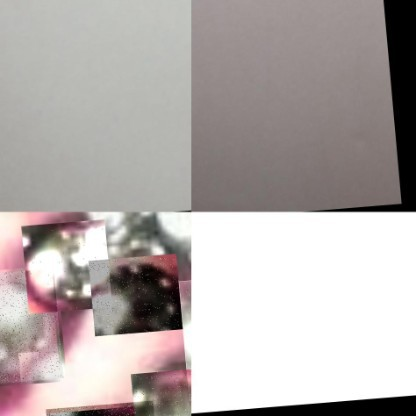ironball: (18, 223, 108, 316), (85, 259, 178, 340), (0, 272, 58, 388), (127, 211, 191, 285), (125, 372, 191, 415), (175, 283, 191, 406)
